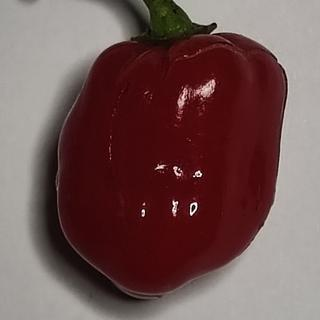striped: (176, 39, 283, 66)
